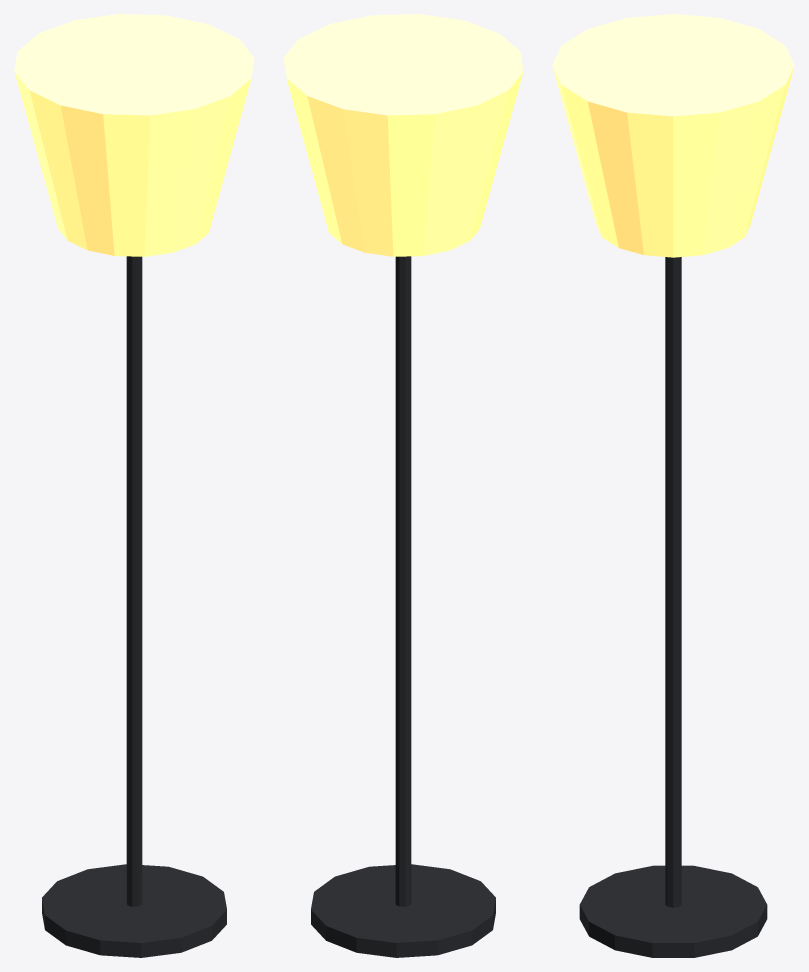
Rendered from PRP_Lamp_Floor_A.glb.
3 renders of one model, left to right at view 1: azimuth 30°, elevation 25°; view 2: azimuth 150°, elevation 25°; view 3: azimuth 270°, elevation 25°, orthographic.
Parts seen in each view (by area): view 1: shade, PRP_Lamp_Floor_A_Base, PRP_Lamp_Floor_A_Pole; view 2: shade, PRP_Lamp_Floor_A_Base, PRP_Lamp_Floor_A_Pole; view 3: shade, PRP_Lamp_Floor_A_Base, PRP_Lamp_Floor_A_Pole.
Boxes of the visible parts, x1,y1,x2,y2 form: shade: (14,14,254,256); PRP_Lamp_Floor_A_Base: (42,864,226,957); PRP_Lamp_Floor_A_Pole: (126,256,142,906); shade: (283,14,523,256); PRP_Lamp_Floor_A_Base: (311,864,495,957); PRP_Lamp_Floor_A_Pole: (395,256,411,906); shade: (552,14,794,257); PRP_Lamp_Floor_A_Base: (579,865,767,957); PRP_Lamp_Floor_A_Pole: (665,257,681,907).
Size of the model in its own units: 0.44 by 1.71 by 0.44.
